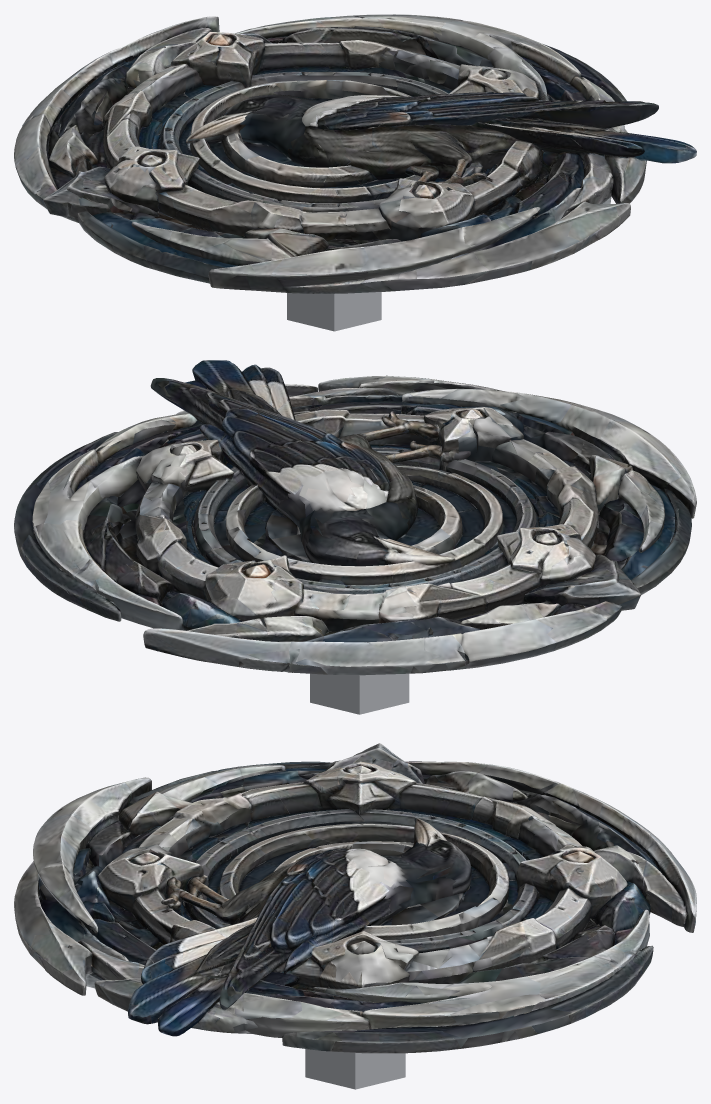
Rendered from magpie.glb.
The picture shows the model from 3 angles, top to bottom: view 1: azimuth 30°, elevation 25°; view 2: azimuth 150°, elevation 25°; view 3: azimuth 270°, elevation 25°; orthographic projection. The views are drawn at different scales.
Visible parts, largest first — view 1: mesh_node; view 2: mesh_node; view 3: mesh_node.
Part boxes in pixels (x1=…): mesh_node: x1=14, y1=14, x2=696, y2=331; mesh_node: x1=14, y1=360, x2=696, y2=714; mesh_node: x1=14, y1=743, x2=696, y2=1089.
Bounding box in the file's own units: 17.69 × 3.86 × 17.74.
2 materials, 1 textured.
